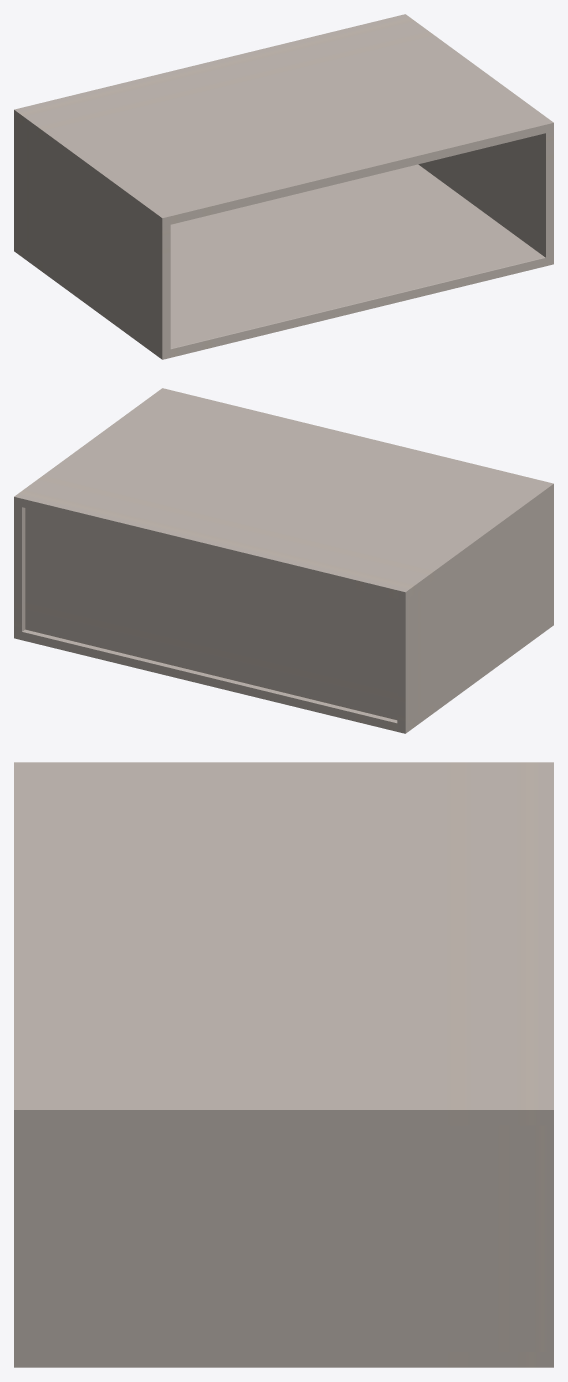
3 views of the same model, one above another, from view 1: azimuth 30°, elevation 25°; view 2: azimuth 150°, elevation 25°; view 3: azimuth 270°, elevation 25° (orthographic). The views are drawn at different scales.
Parts seen in each view (by area): view 1: Object_97; view 2: Object_97; view 3: Object_97.
Part boxes in pixels (x1,y1,x2,y2): Object_97: (14,14,553,359); Object_97: (14,388,553,733); Object_97: (14,762,553,1367).
Bounding box in the file's own units: 0.868 × 0.3 × 0.57.
Materials: 1 (1 with a texture image).
